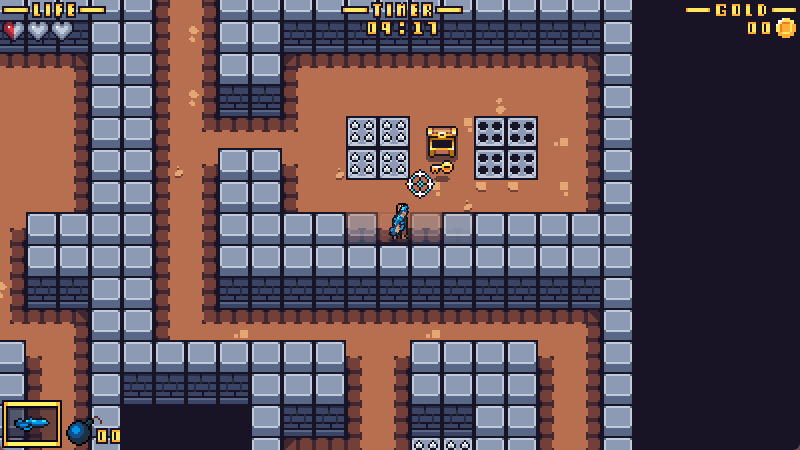aim: (406, 169, 435, 198)
bomb_counter_0: (68, 415, 121, 450)
gold_counter: (686, 1, 800, 40)
health-5: (1, 18, 76, 42)
key: (428, 161, 456, 177)
player: (388, 201, 412, 245)
timer: (343, 1, 461, 37)
trap_off: (475, 117, 537, 179)
trap_warning: (346, 117, 409, 180)
treasury_open: (425, 125, 459, 159)
